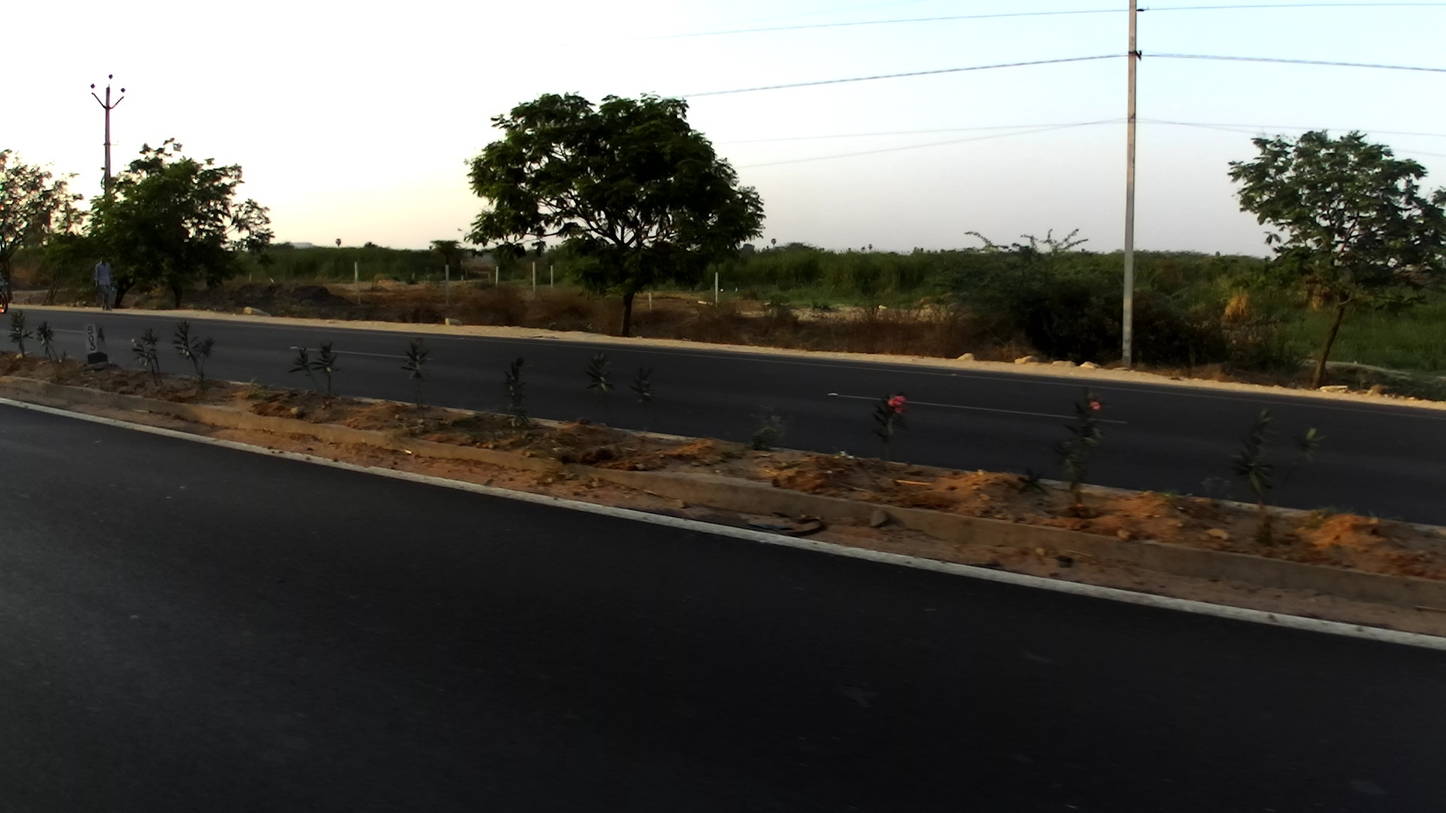motorcycle: (1, 274, 14, 313)
person: (93, 248, 118, 312)
rider: (1, 248, 13, 307)
